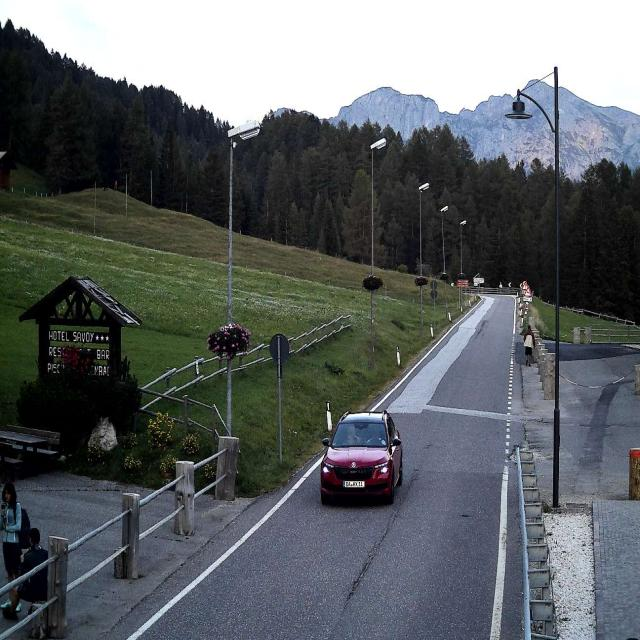car: (319, 408, 403, 505)
